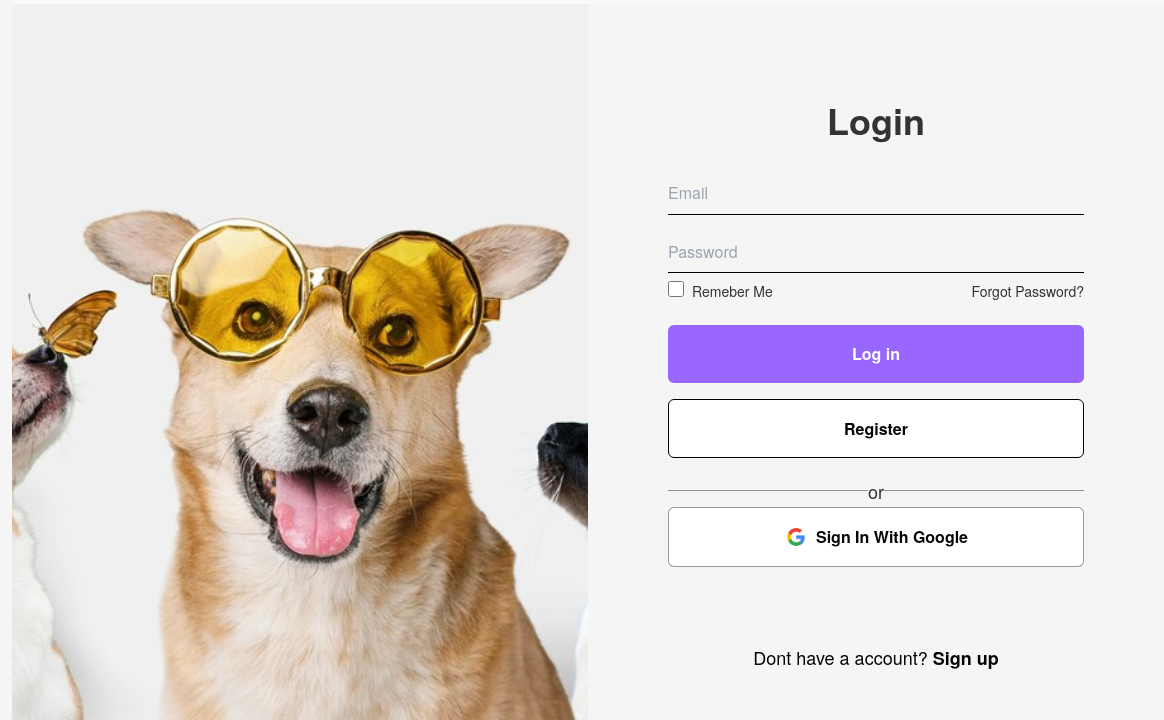
Scenario: LoginPage › should show error if email format is invalid
This screenshot has width=1164, height=720.
Type "invalid-email" into the field with placeholder "Email".
click(876, 193); type("invalid-email")  # box [668,172,1084,215]
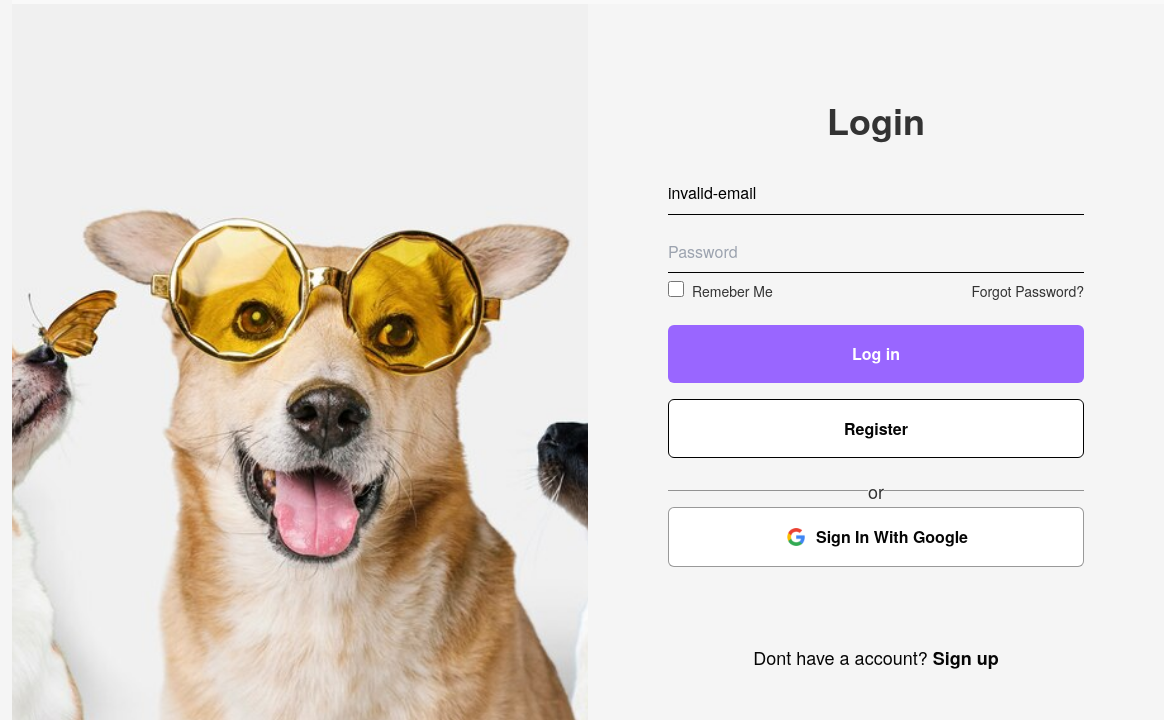
Type "password" into the password field with placeholder "Password".
click(876, 252); type("password")  # box [668,231,1084,273]
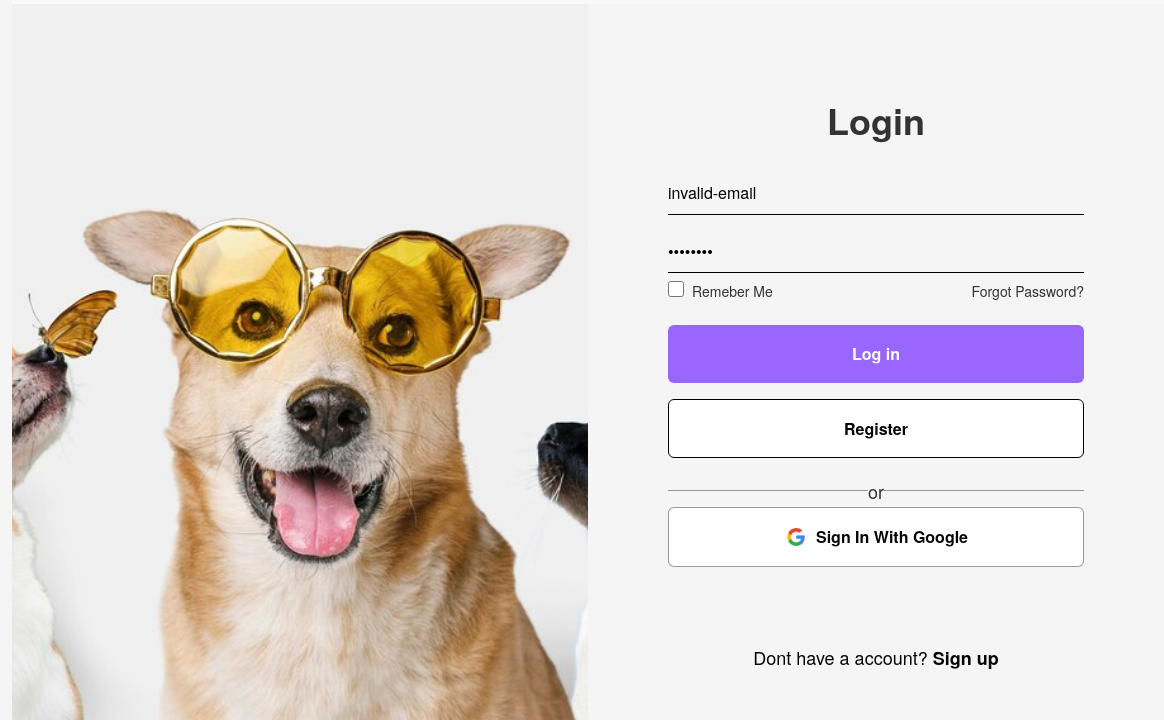
Click the button "Log in".
click(876, 354)  # box [668,325,1084,383]
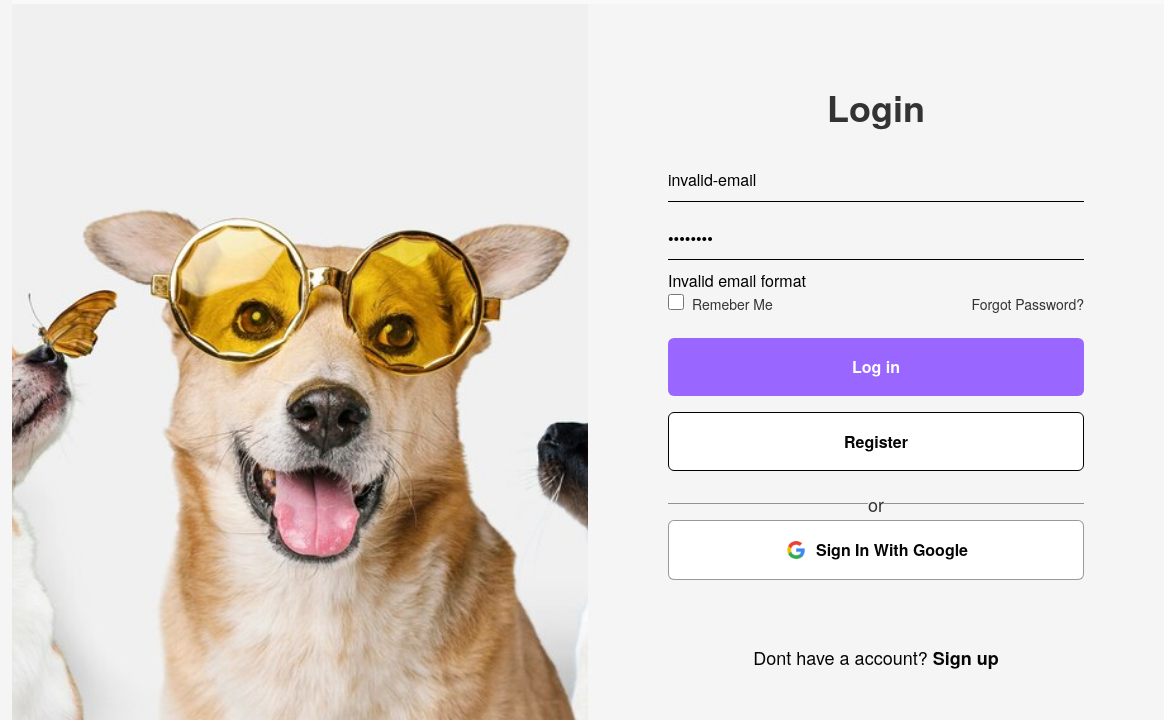
Expected: the text "Invalid email format" is shown, [668,269,806,292]
